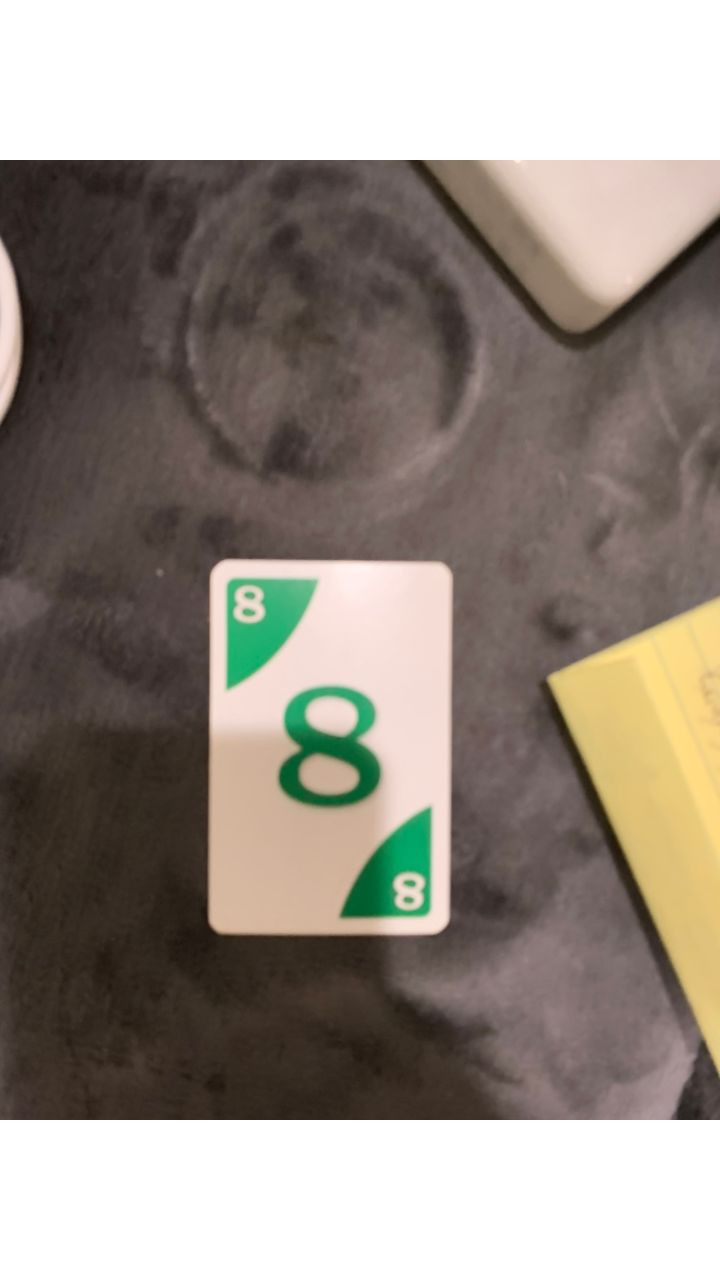eight: (201, 556, 456, 933)
